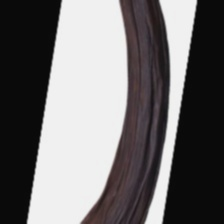banana: (42, 14, 186, 186)
